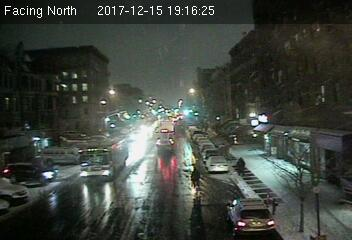bus: (78, 138, 132, 181), (155, 123, 175, 148)
car: (226, 198, 278, 236), (206, 156, 228, 173)
pedestrian: (234, 155, 246, 175)
